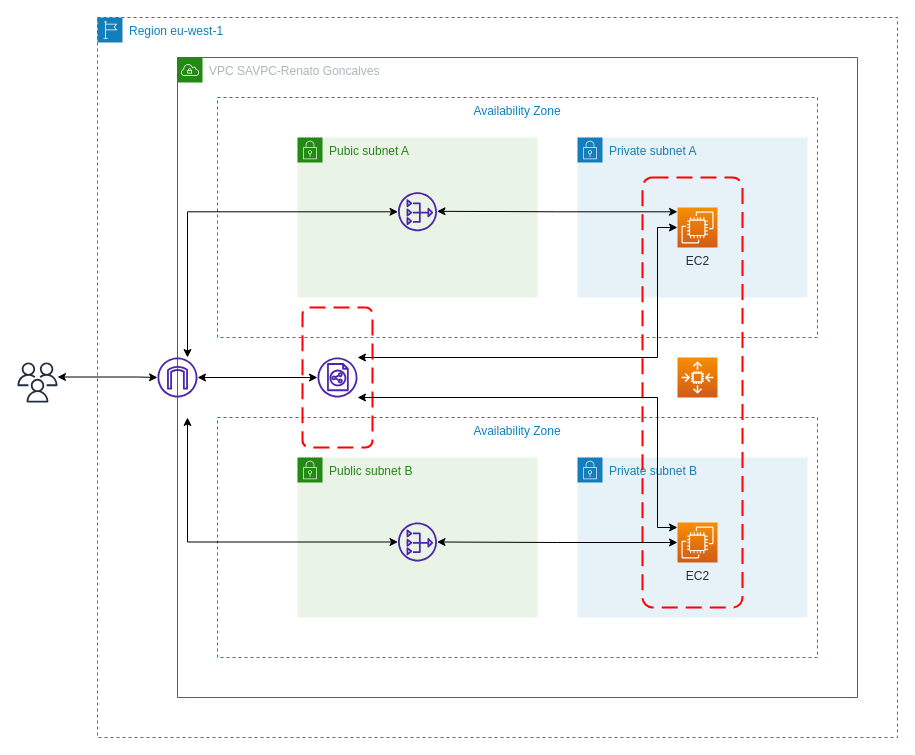
Image size: 915x755. Some labels were removed from this diagram. Here are the shapes that lost their labels. From the top down, the centre of each, then its label:
At point (177, 377): "IGW".
At point (337, 377): "ELB".
At point (697, 377): "Auto Scaling".
